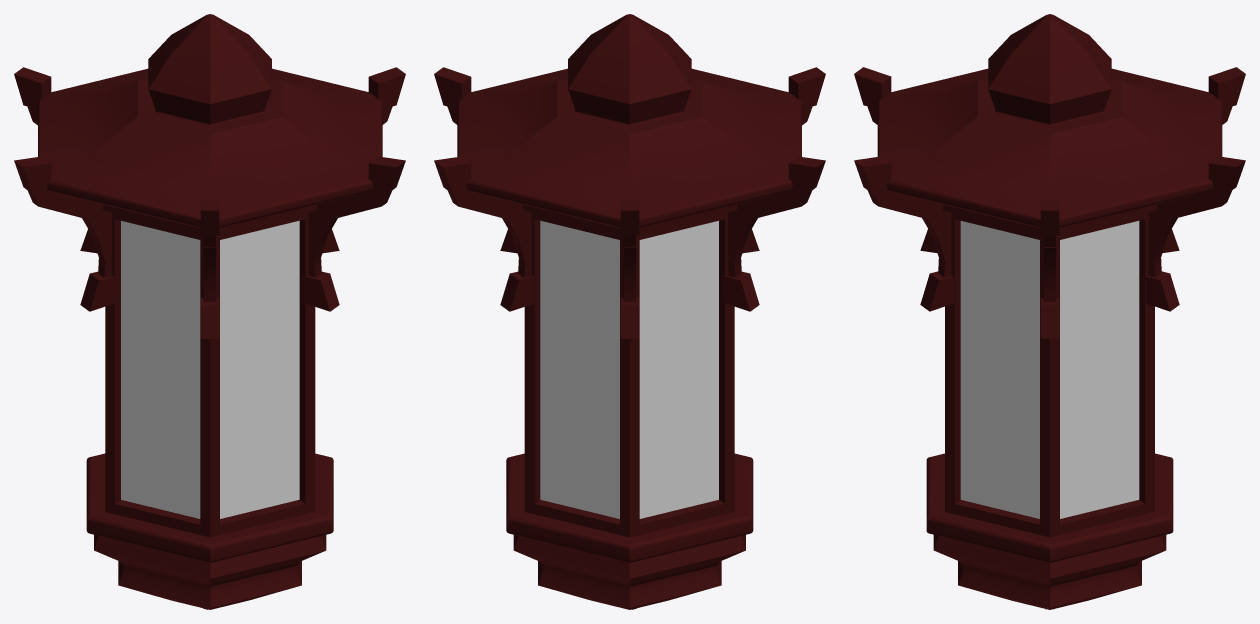
Rendered from lantern1.fbx.
3 views of the same model, side by side, from view 1: azimuth 30°, elevation 25°; view 2: azimuth 150°, elevation 25°; view 3: azimuth 270°, elevation 25° (orthographic).
Visible parts, largest first — view 1: pCylinder3; view 2: pCylinder3; view 3: pCylinder3.
Part boxes in pixels (x1=…): pCylinder3: x1=14, y1=14, x2=405, y2=609; pCylinder3: x1=434, y1=14, x2=825, y2=609; pCylinder3: x1=854, y1=14, x2=1245, y2=609.
Size of the model in its own units: 20.09 by 29.71 by 17.83.
